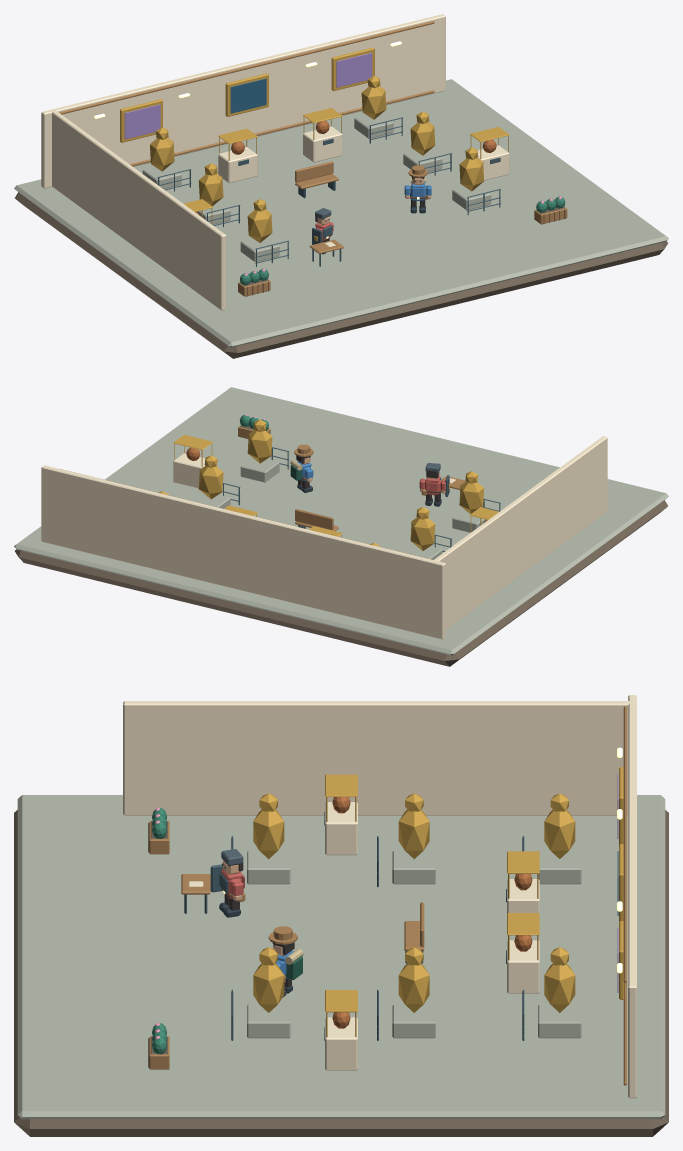
Rendered from world-museum.glb.
The picture shows the model from 3 angles, top to bottom: view 1: azimuth 30°, elevation 25°; view 2: azimuth 150°, elevation 25°; view 3: azimuth 270°, elevation 25°; orthographic projection. The views are drawn at different scales.
Visible parts, largest first — view 1: terrain-top, rear-wall, side-wall, terrain-stratum, interior-trim.001, display-plinth.002, display-plinth.001, artwork.001, artwork, artwork.002, display-plinth.004, plinth.004 (+15 smaller); view 2: terrain-top, rear-wall, side-wall, terrain-stratum, display-plinth.004, plinth.004, sculpture.005, sculpture.002, sculpture.004, sculpture.001, bench-back.001, plinth.001; view 3: terrain-top, side-wall, terrain-stratum, rear-wall, display-plinth.003, display-plinth.004, display-plinth.002, plinth.006, plinth.004, plinth.005, plinth.001, plinth.002 (+13 smaller).
Part boxes in pixels (x1,y1,x2,y2): terrain-top: (14, 79, 668, 347); rear-wall: (41, 14, 445, 188); side-wall: (52, 110, 226, 310); terrain-stratum: (14, 192, 667, 358); interior-trim.001: (59, 21, 434, 114); display-plinth.002: (303, 126, 342, 162); display-plinth.001: (218, 147, 257, 183); artwork.001: (230, 78, 266, 113); artwork: (124, 104, 160, 139); artwork.002: (336, 52, 372, 87); display-plinth.004: (477, 145, 509, 180); plinth.004: (452, 185, 491, 210); terrain-top: (14, 387, 668, 655); rear-wall: (41, 465, 445, 639); side-wall: (433, 436, 607, 629); terrain-stratum: (15, 500, 667, 666); display-plinth.004: (173, 453, 205, 488); plinth.004: (240, 457, 279, 482); sculpture.005: (198, 465, 223, 499); sculpture.002: (410, 517, 435, 550); sculpture.004: (247, 430, 272, 463); sculpture.001: (459, 481, 484, 514); bench-back.001: (295, 509, 333, 530); plinth.001: (452, 509, 486, 532); terrain-top: (17, 795, 665, 1119); side-wall: (123, 701, 630, 815); terrain-stratum: (14, 810, 668, 1136); rear-wall: (628, 695, 636, 1098); display-plinth.003: (325, 802, 357, 855); display-plinth.004: (325, 1017, 357, 1070); display-plinth.002: (507, 940, 539, 993); plinth.006: (538, 1004, 581, 1038); plinth.004: (247, 1004, 290, 1038); plinth.005: (392, 1004, 435, 1038); plinth.001: (247, 850, 290, 884); plinth.002: (392, 850, 435, 884).
Bounding box in the file's own units: 21 × 4.29 × 18.
